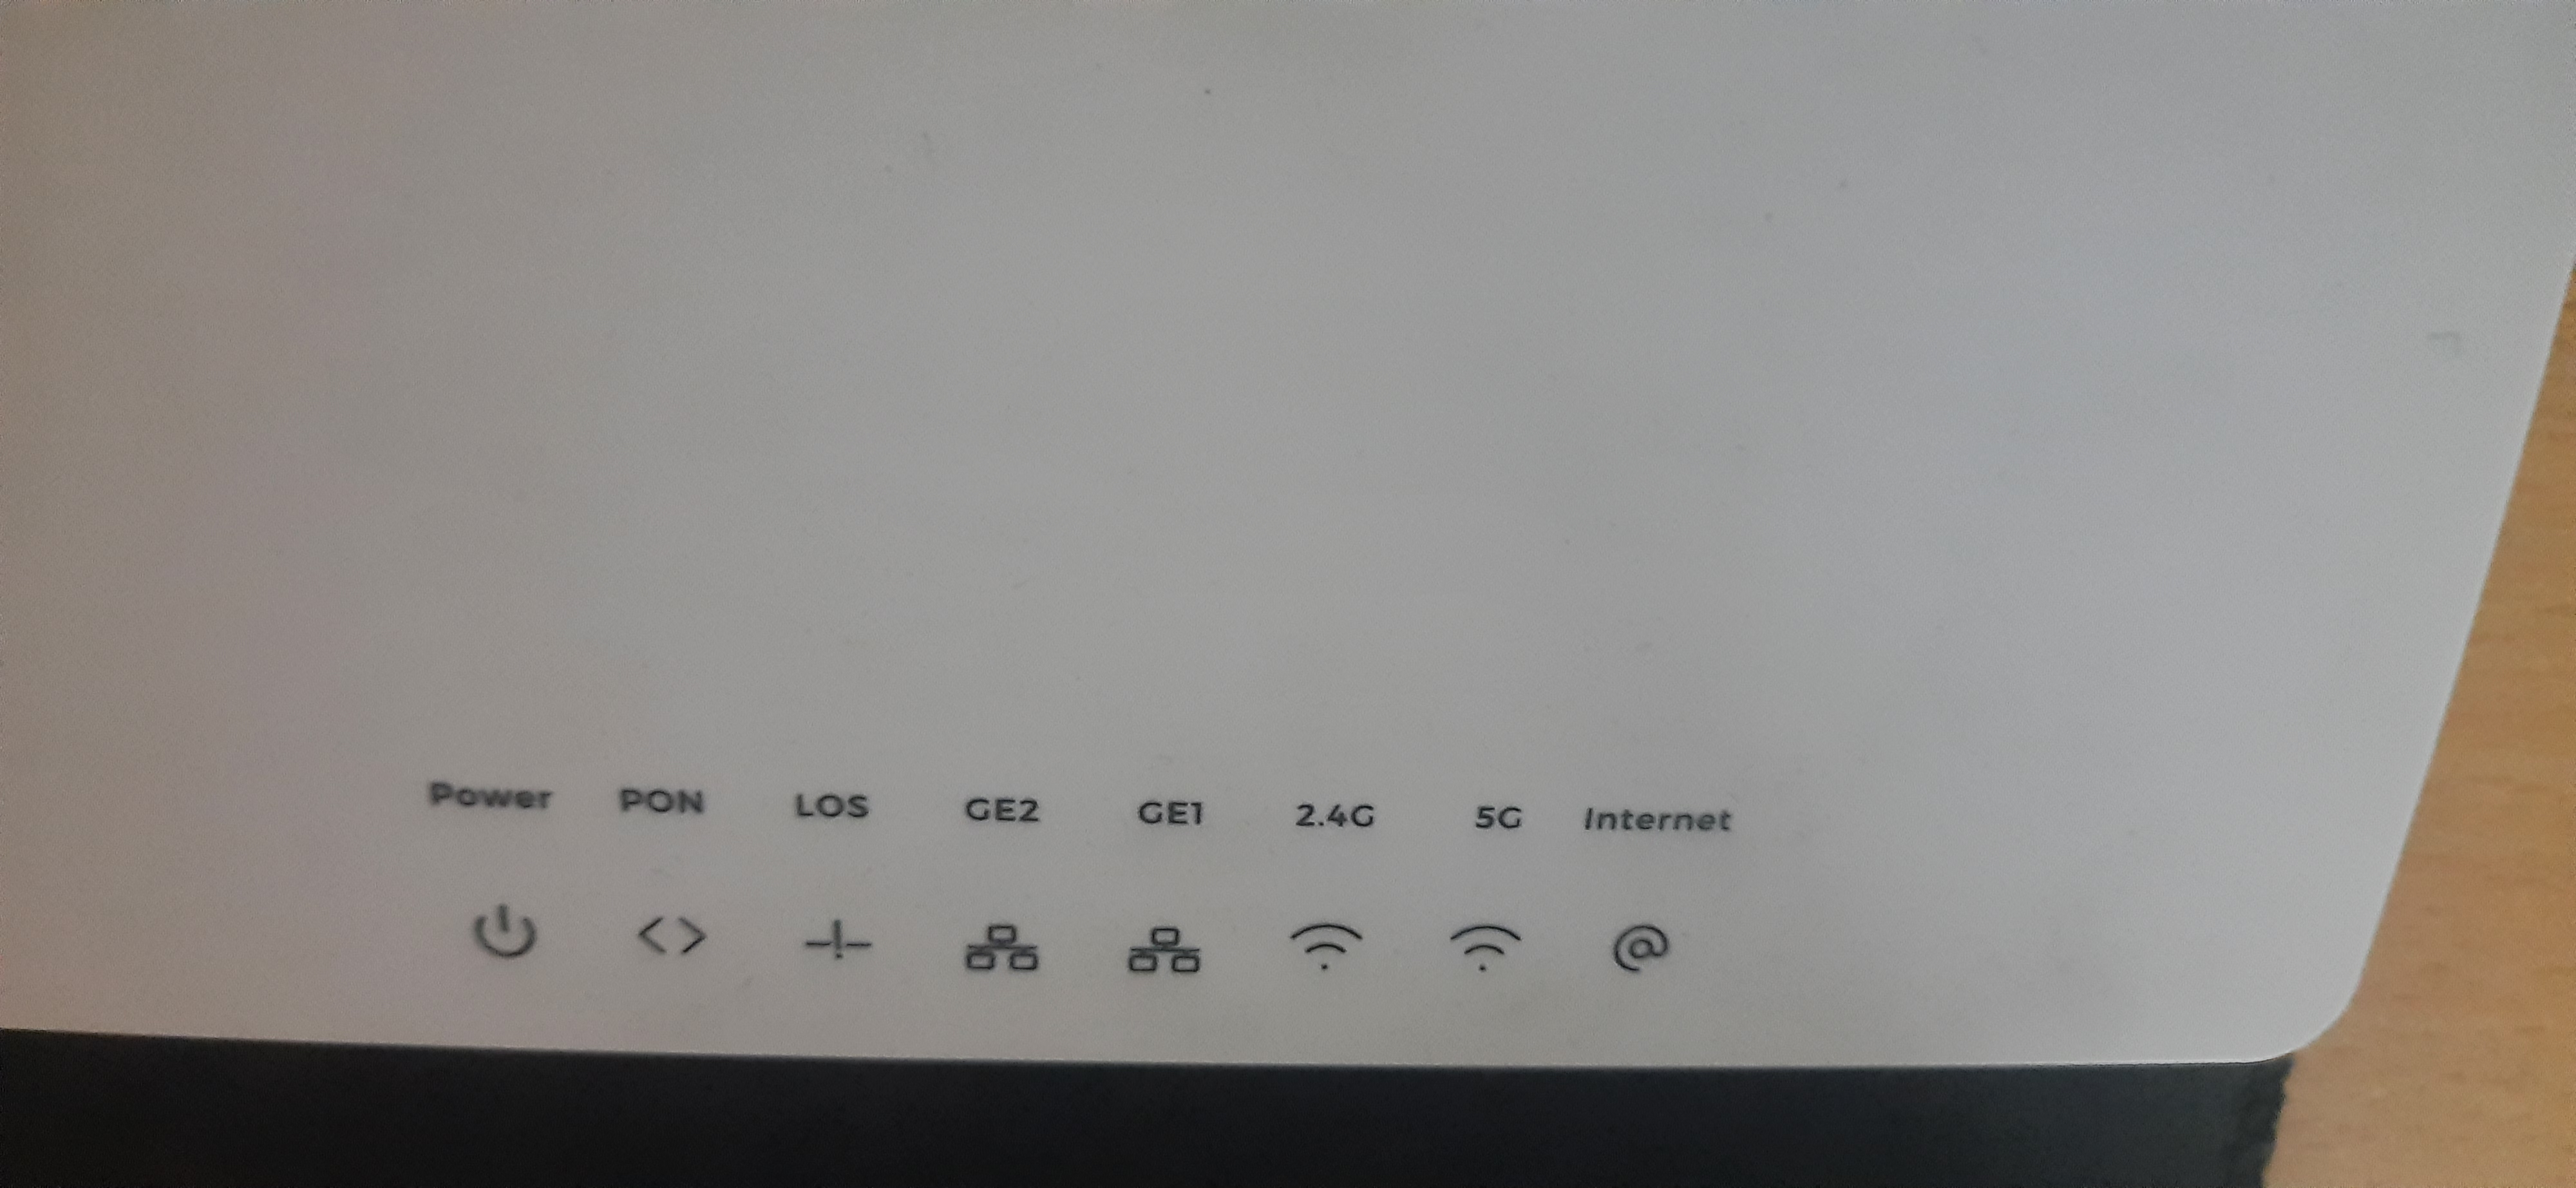WhiteWireIssue: (309, 721, 1850, 1012)
